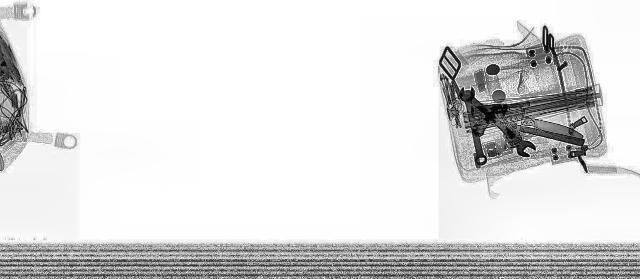Gun: (458, 100, 544, 136)
Knife: (464, 102, 592, 142)
Wrench: (447, 88, 545, 157), (454, 87, 492, 165)
